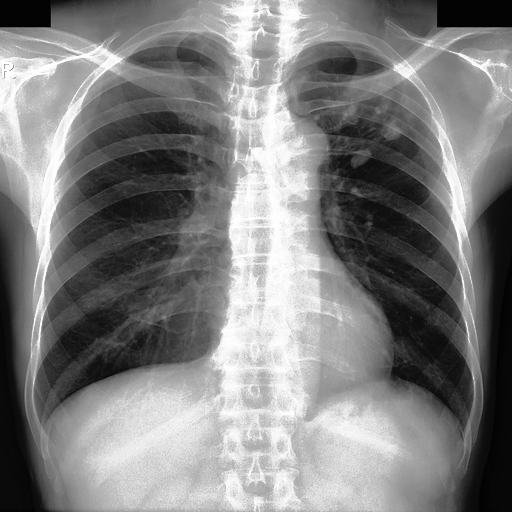Consolidation: (262, 116, 331, 180)
Pneumothorax: (330, 80, 413, 167)
Pulmonary fibrosis: (351, 146, 372, 167), (380, 122, 402, 142), (374, 98, 391, 113), (349, 185, 363, 196)
